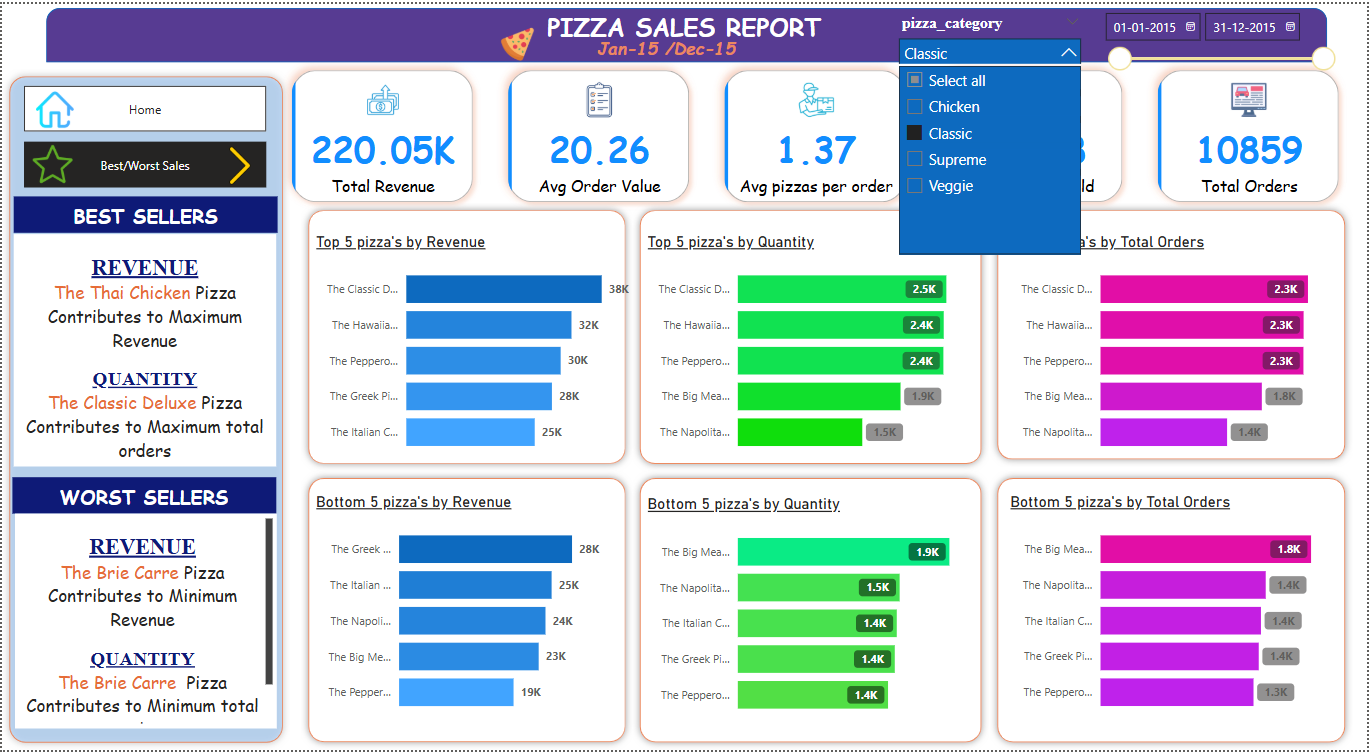

Layout of this report page (visuals, bound fields, positions):
{"tool":"powerbi","page":{"name":"Best/Worst Sales","canvas":[1500,820],"ordinal":1},"visuals":[{"type":"cardVisual","fields":{"Data":["pizza_sales.Total Revenue","pizza_sales.Avg Order Value","pizza_sales.Avg pizzas per order","pizza_sales.Total pizzas sold","pizza_sales.Total Orders"]},"box":[296.8,51.6,1193.5,200],"z":0},{"type":"shape","box":[48.4,4.8,1408.1,60],"z":1000},{"type":"textbox","box":[577.4,0,345.2,51.6],"z":2000},{"type":"textbox","box":[648.4,30.6,175.8,41.9],"z":3000},{"type":"image","box":[521,19.4,90.3,48.4],"z":4000},{"type":"shape","box":[328.3,218.3,365,295],"z":5000},{"type":"shape","box":[0,71.7,316.7,748.3],"z":6000},{"type":"textbox","box":[13.3,211.7,290,40],"z":7000},{"type":"textbox","box":[13.3,253.3,288.3,255],"z":8000},{"type":"textbox","box":[11.7,520,290,40],"z":9000},{"type":"textbox","box":[14,560,288,236],"z":10000},{"type":"slicer","fields":{"Values":["pizza_sales.pizza_category"]},"box":[975,5,220,60],"z":11000},{"type":"slicer","fields":{"Values":["pizza_sales.order_date"]},"box":[1200,0,273.3,90],"z":12000},{"type":"shape","box":[693.3,218.3,391.7,295],"z":13000},{"type":"shape","box":[1085,218.3,398.3,290],"z":14000},{"type":"shape","box":[328.3,513.3,365,306.7],"z":15000},{"type":"shape","box":[693.3,513.3,391.7,306.7],"z":16000},{"type":"shape","box":[1085,513.3,398.3,306.7],"z":17000},{"type":"barChart","title":"Top 5 pizza''s by Revenue","fields":{"Category":["pizza_sales.pizza_name"],"Y":["pizza_sales.Total Revenue"]},"box":[340,251.7,365,256.7],"z":18000},{"type":"barChart","title":"Bottom 5 pizza''s by Revenue","fields":{"Category":["pizza_sales.pizza_name"],"Y":["pizza_sales.Total Revenue"]},"box":[340,536.7,331.7,256.7],"z":19000},{"type":"barChart","title":"Top 5 pizza''s by Quantity","fields":{"Category":["pizza_sales.pizza_name"],"Y":["pizza_sales.Total pizzas sold"]},"box":[705,251.7,363.3,256.7],"z":20000},{"type":"barChart","title":"Bottom 5 pizza''s by Quantity","fields":{"Category":["pizza_sales.pizza_name"],"Y":["pizza_sales.Total pizzas sold"]},"box":[705,540,363.3,256.7],"z":20001},{"type":"barChart","title":"Top 5 pizza''s by Total Orders","fields":{"Category":["pizza_sales.pizza_name"],"Y":["pizza_sales.Total Orders"]},"box":[1103.3,251.7,363.3,256.7],"z":20002},{"type":"barChart","title":"Bottom 5 pizza''s by Total Orders","fields":{"Category":["pizza_sales.pizza_name"],"Y":["pizza_sales.Total Orders"]},"box":[1103.3,536.7,363.3,256.7],"z":20003},{"type":"pageNavigator","box":[24,152,266,50],"z":20004},{"type":"pageNavigator","box":[24,90,266,50],"z":20005},{"type":"image","box":[112,152,300,52],"z":20006},{"type":"image","box":[14,90,88,52],"z":20007},{"type":"image","box":[12,148,88,54],"z":20008}]}

Visuals, with their boxes in screenshot pixels (x1, y1, x2, y2), scaled from the page's 1500x820 canvas onto the 1371x752 screenshot:
cardVisual - pizza_sales.Total Revenue x pizza_sales.Avg Order Value: <bbox>271, 47, 1362, 231</bbox>
shape: <bbox>44, 4, 1331, 59</bbox>
textbox: <bbox>528, 0, 843, 47</bbox>
textbox: <bbox>593, 28, 753, 66</bbox>
image: <bbox>476, 18, 559, 62</bbox>
shape: <bbox>300, 200, 634, 471</bbox>
shape: <bbox>0, 66, 289, 751</bbox>
textbox: <bbox>12, 194, 277, 231</bbox>
textbox: <bbox>12, 232, 276, 466</bbox>
textbox: <bbox>11, 477, 276, 514</bbox>
textbox: <bbox>13, 514, 276, 730</bbox>
slicer - pizza_sales.pizza_category: <bbox>891, 5, 1092, 60</bbox>
slicer - pizza_sales.order_date: <bbox>1097, 0, 1347, 83</bbox>
shape: <bbox>634, 200, 992, 471</bbox>
shape: <bbox>992, 200, 1356, 466</bbox>
shape: <bbox>300, 471, 634, 751</bbox>
shape: <bbox>634, 471, 992, 751</bbox>
shape: <bbox>992, 471, 1356, 751</bbox>
"Top 5 pizza''s by Revenue" barChart: <bbox>311, 231, 644, 466</bbox>
"Bottom 5 pizza''s by Revenue" barChart: <bbox>311, 492, 614, 728</bbox>
"Top 5 pizza''s by Quantity" barChart: <bbox>644, 231, 976, 466</bbox>
"Bottom 5 pizza''s by Quantity" barChart: <bbox>644, 495, 976, 731</bbox>
"Top 5 pizza''s by Total Orders" barChart: <bbox>1008, 231, 1340, 466</bbox>
"Bottom 5 pizza''s by Total Orders" barChart: <bbox>1008, 492, 1340, 728</bbox>
pageNavigator: <bbox>22, 139, 265, 185</bbox>
pageNavigator: <bbox>22, 83, 265, 128</bbox>
image: <bbox>102, 139, 377, 187</bbox>
image: <bbox>13, 83, 93, 130</bbox>
image: <bbox>11, 136, 91, 185</bbox>
